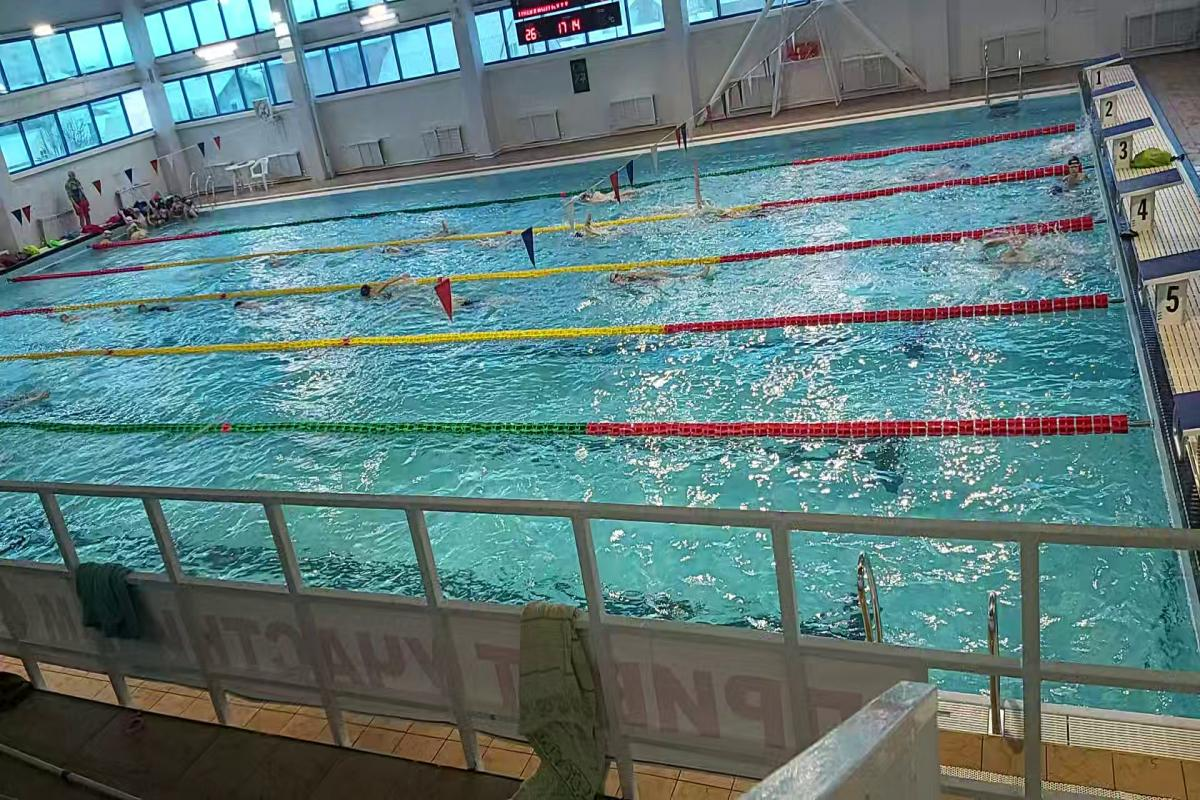swimmer: (612, 257, 719, 291), (887, 160, 982, 181), (356, 274, 410, 305), (222, 289, 288, 312), (379, 236, 441, 260), (570, 214, 616, 244), (128, 295, 182, 318), (574, 187, 643, 205), (49, 303, 101, 325), (1058, 151, 1090, 185)
